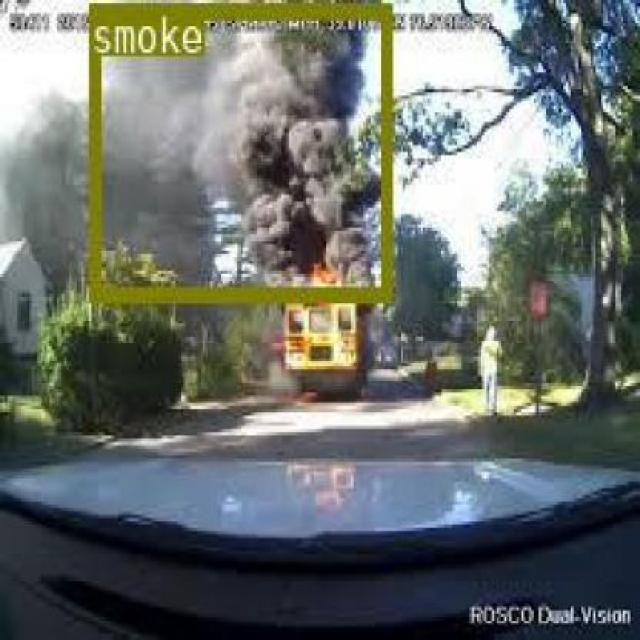Smoke: (86, 3, 389, 297)
